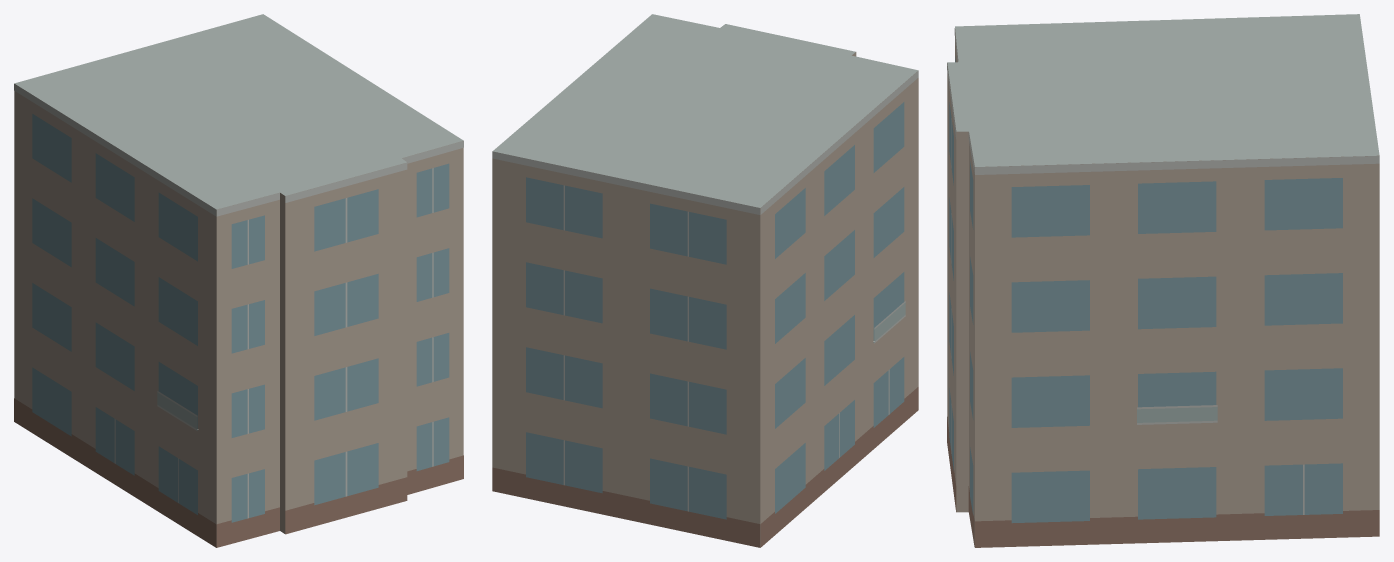
File: survey-upis-32698623.glb
3 renders of one model, left to right at view 1: azimuth 30°, elevation 25°; view 2: azimuth 150°, elevation 25°; view 3: azimuth 270°, elevation 25°, orthographic. The views are drawn at different scales.
Visible parts, largest first — view 1: survey-upis-32698623.tmp; view 2: survey-upis-32698623.tmp; view 3: survey-upis-32698623.tmp.
Part boxes in pixels (bbox=[...]): survey-upis-32698623.tmp: bbox=[14, 14, 463, 547]; survey-upis-32698623.tmp: bbox=[492, 14, 918, 547]; survey-upis-32698623.tmp: bbox=[947, 14, 1379, 547].
Bounding box in the file's own units: 10.01 × 11.6 × 11.95.
